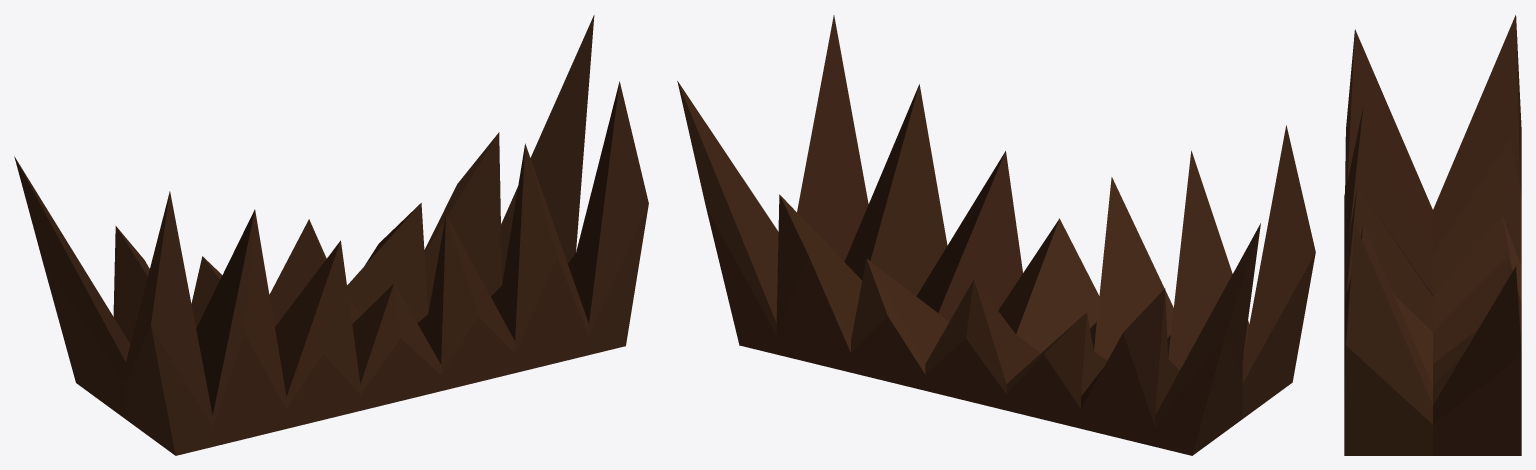
The model's file is Trap1.fbx.
The picture shows the model from 3 angles, left to right: view 1: azimuth 30°, elevation 25°; view 2: azimuth 150°, elevation 25°; view 3: azimuth 270°, elevation 25°; orthographic projection. The views are drawn at different scales.
Visible parts, largest first — view 1: Cube.014; view 2: Cube.014; view 3: Cube.014.
Boxes of the visible parts, x1=… form: Cube.014: x1=14, y1=15, x2=648, y2=455; Cube.014: x1=677, y1=15, x2=1315, y2=455; Cube.014: x1=1344, y1=15, x2=1521, y2=455.
Size of the model in its own units: 67.19 by 28.87 by 20.
